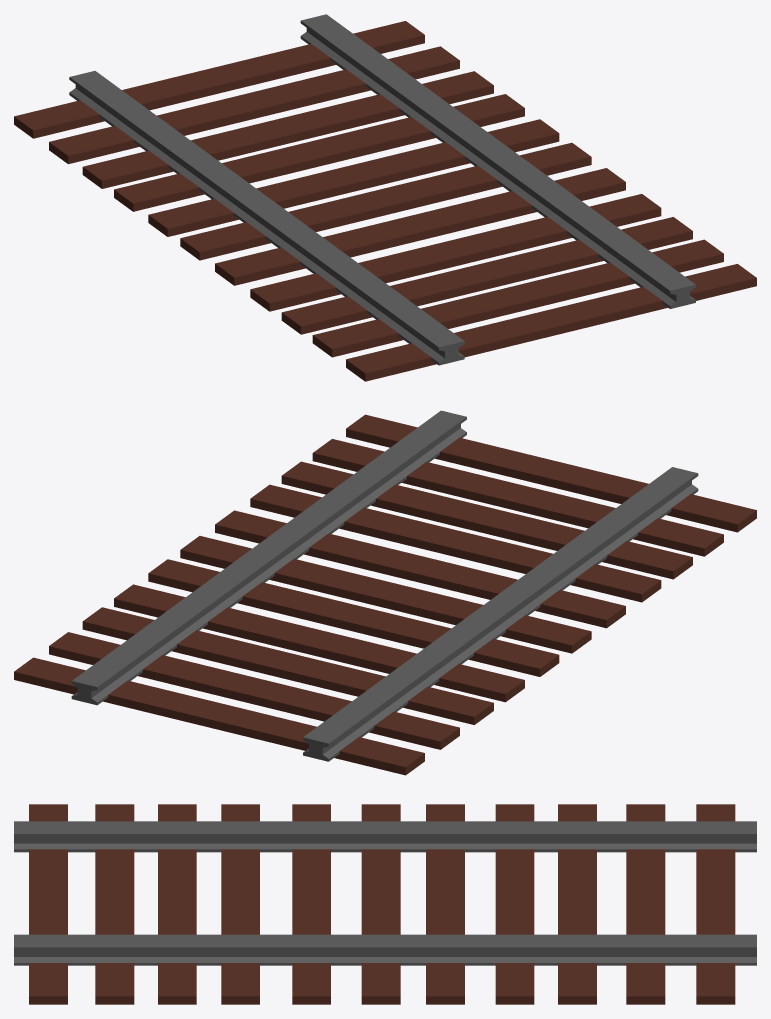
File: TrainTrack.fbx
The picture shows the model from 3 angles, top to bottom: view 1: azimuth 30°, elevation 25°; view 2: azimuth 150°, elevation 25°; view 3: azimuth 270°, elevation 25°; orthographic projection.
Visible parts, largest first — view 1: MovingPlatform.005; view 2: MovingPlatform.005; view 3: MovingPlatform.005.
Part boxes in pixels (x1=…): MovingPlatform.005: x1=14, y1=14, x2=756, y2=381; MovingPlatform.005: x1=14, y1=410, x2=756, y2=775; MovingPlatform.005: x1=14, y1=804, x2=756, y2=1004.
Size of the model in its own units: 802 by 46.18 by 1311.
